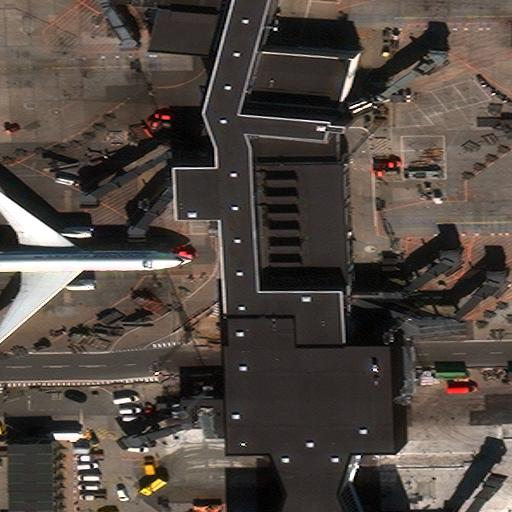Large Civil Transport: (0, 186, 190, 345)
